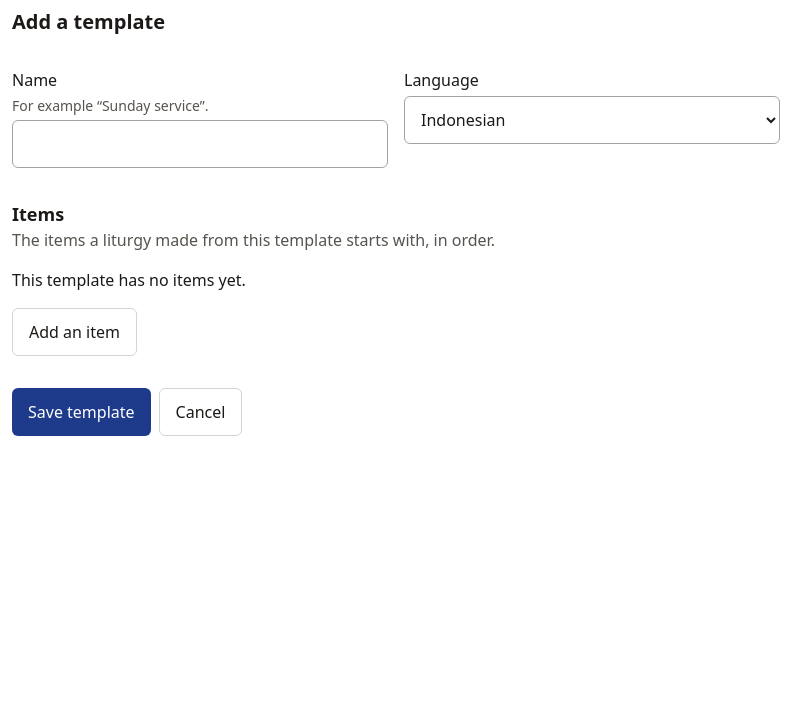
Test case: TemplateFormPage › asks for a name and a title before sending
Click the button "Add an item" at point(74, 332), box [12,308,137,356]
(page scrolled)
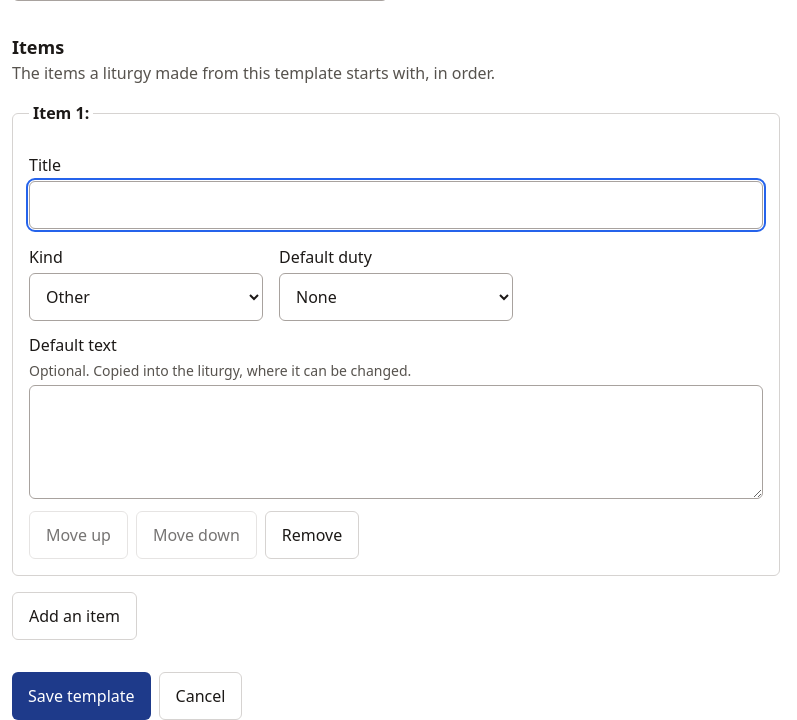
Click the button "Save template" at point(81, 696), box [12,672,151,719]
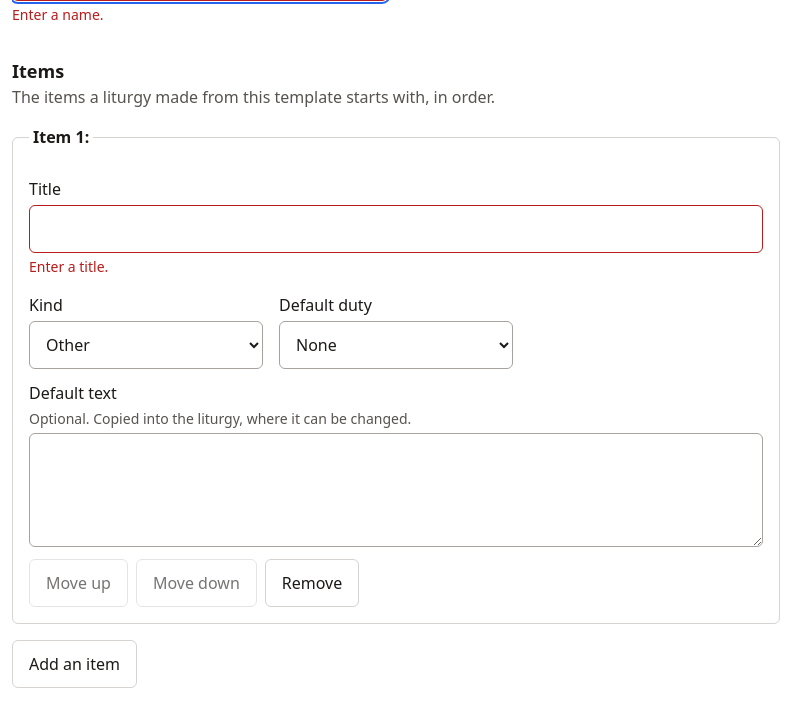
Expected: the text "Enter a name." is shown, [12,5,104,24]
Expected: the text "Enter a title." is shown, [29,257,108,276]
